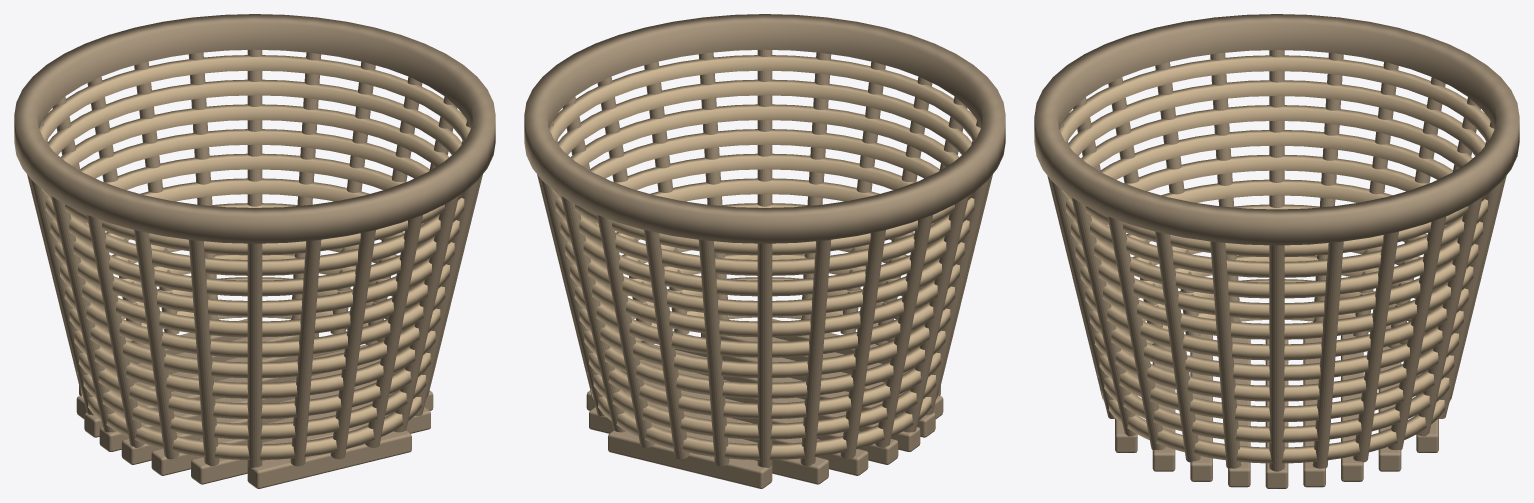
The model's file is coastal-saltworks-and-trade-port-coastal-saltworks-and-9e15c469__31385.glb.
3 renders of one model, left to right at view 1: azimuth 30°, elevation 25°; view 2: azimuth 150°, elevation 25°; view 3: azimuth 270°, elevation 25°, orthographic.
Parts seen in each view (by area): view 1: coastal-saltworks-and-trade-port-salt-draining-basket; view 2: coastal-saltworks-and-trade-port-salt-draining-basket; view 3: coastal-saltworks-and-trade-port-salt-draining-basket.
Part boxes in pixels (left/top/right/bottom): coastal-saltworks-and-trade-port-salt-draining-basket: left=14, top=14, right=495, bottom=488; coastal-saltworks-and-trade-port-salt-draining-basket: left=524, top=14, right=1005, bottom=488; coastal-saltworks-and-trade-port-salt-draining-basket: left=1034, top=14, right=1519, bottom=488.
Size of the model in its own units: 0.58 by 0.395 by 0.58.
